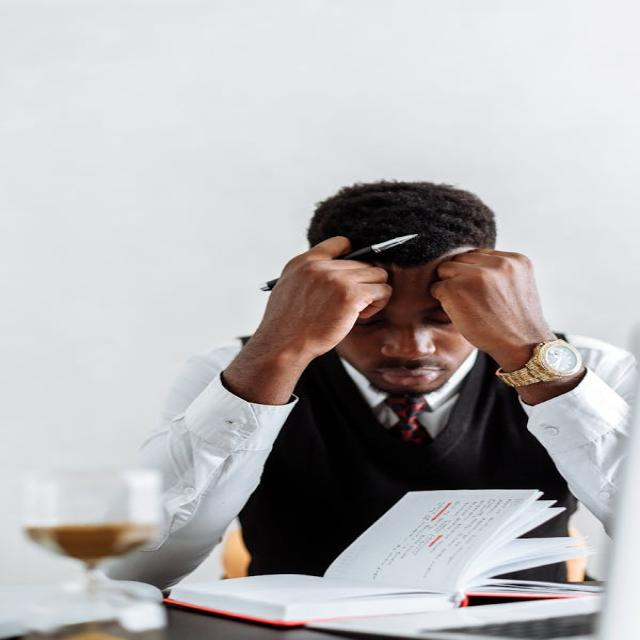pen: (243, 221, 434, 310)
